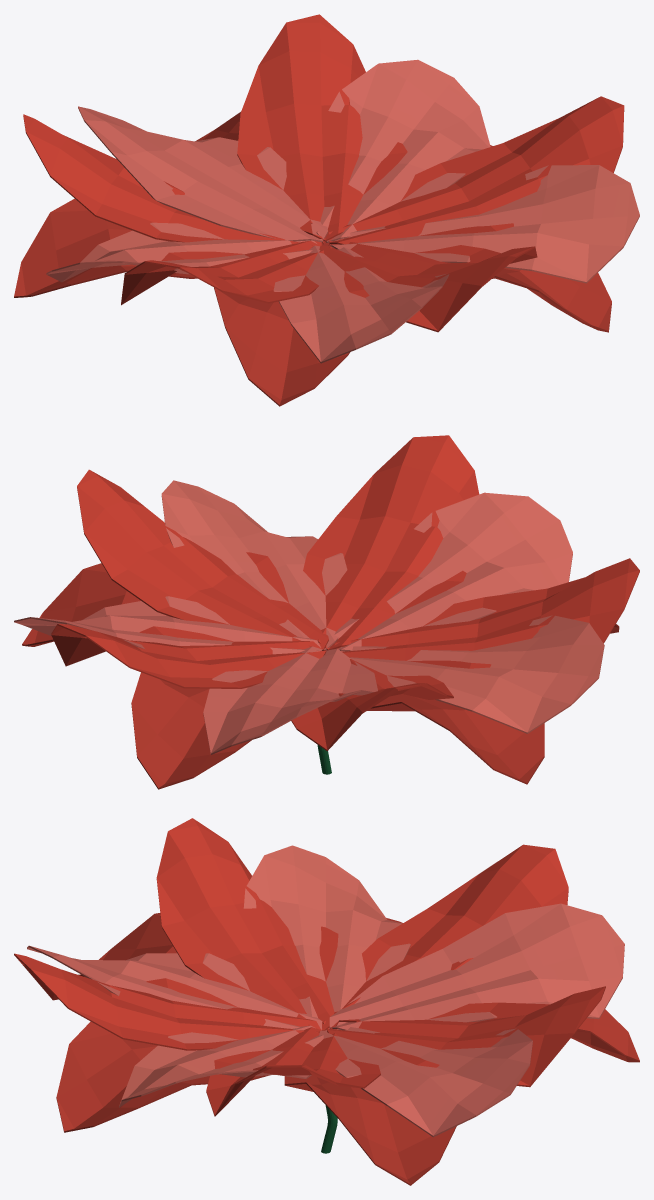
The model's file is Flower_5.fbx.
3 renders of one model, top to bottom at view 1: azimuth 30°, elevation 25°; view 2: azimuth 150°, elevation 25°; view 3: azimuth 270°, elevation 25°, orthographic.
Visible parts, largest first — view 1: Flower_5; view 2: Flower_5; view 3: Flower_5.
Part boxes in pixels (box(x1,y1,x2,y2)): Flower_5: box(14, 14, 639, 406); Flower_5: box(14, 435, 639, 789); Flower_5: box(14, 818, 639, 1185).
Bounding box in the file's own units: 652 × 251 × 656.
